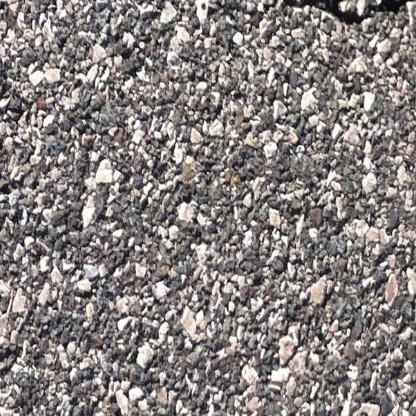Cracks: (301, 0, 416, 28)
